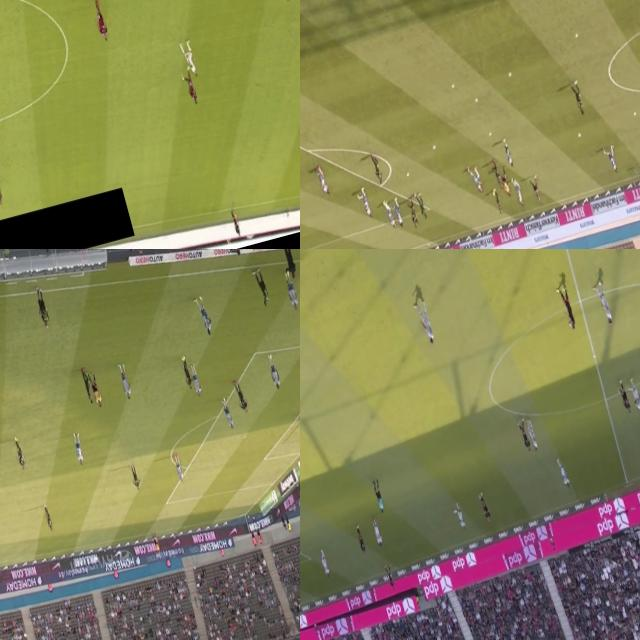ball: (576, 131, 582, 140), (574, 30, 580, 39), (431, 142, 436, 152), (450, 84, 456, 90), (488, 132, 492, 138), (406, 172, 410, 178), (634, 112, 637, 116)
player: (190, 292, 216, 340), (412, 298, 437, 347), (553, 286, 578, 332), (89, 0, 112, 46), (592, 281, 614, 327), (281, 268, 300, 313), (251, 270, 272, 310), (614, 381, 636, 418), (178, 42, 198, 80), (177, 352, 196, 392), (230, 377, 250, 415), (78, 368, 96, 410), (524, 416, 542, 456), (181, 69, 200, 106), (569, 76, 586, 115), (514, 417, 532, 452), (218, 396, 235, 433), (117, 362, 134, 399), (553, 454, 571, 488), (476, 488, 493, 524), (266, 354, 282, 389), (12, 435, 28, 470), (450, 500, 468, 531), (188, 362, 204, 396), (70, 430, 85, 466), (466, 162, 482, 194), (404, 197, 420, 229), (382, 198, 398, 230), (383, 562, 399, 594), (489, 183, 504, 217), (355, 188, 372, 218), (602, 143, 618, 173), (627, 377, 640, 412), (370, 156, 385, 186), (370, 520, 385, 550), (316, 164, 330, 196), (41, 500, 55, 532), (413, 189, 428, 218), (490, 158, 504, 189), (528, 174, 542, 204), (128, 462, 142, 492), (354, 526, 368, 556), (173, 455, 186, 484), (318, 548, 331, 576), (390, 197, 402, 225), (512, 179, 524, 206), (502, 138, 513, 164), (0, 168, 6, 208), (634, 163, 640, 188), (296, 409, 300, 444), (472, 96, 479, 104), (506, 69, 512, 78)
